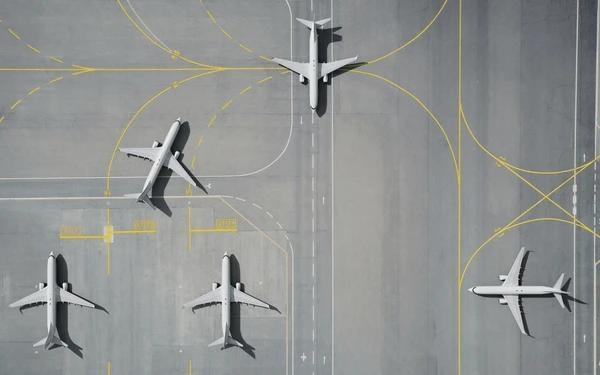Airplane: (465, 245, 573, 340), (267, 13, 360, 115), (181, 250, 272, 354), (6, 250, 96, 354), (113, 113, 200, 216)
